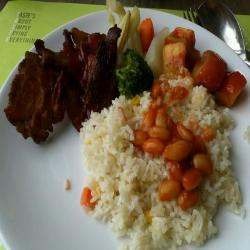rice: (95, 115, 234, 243)
